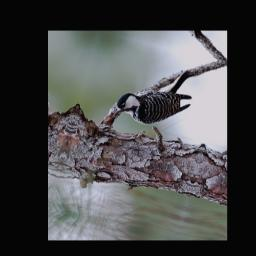Woodpecker: (110, 55, 200, 136)
